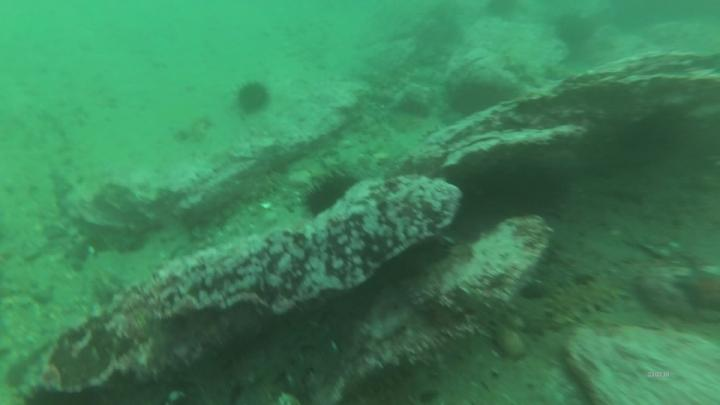echinus: (311, 177, 355, 210), (453, 82, 500, 111), (556, 11, 591, 46), (239, 84, 268, 112)
holothurian: (548, 280, 625, 325)
